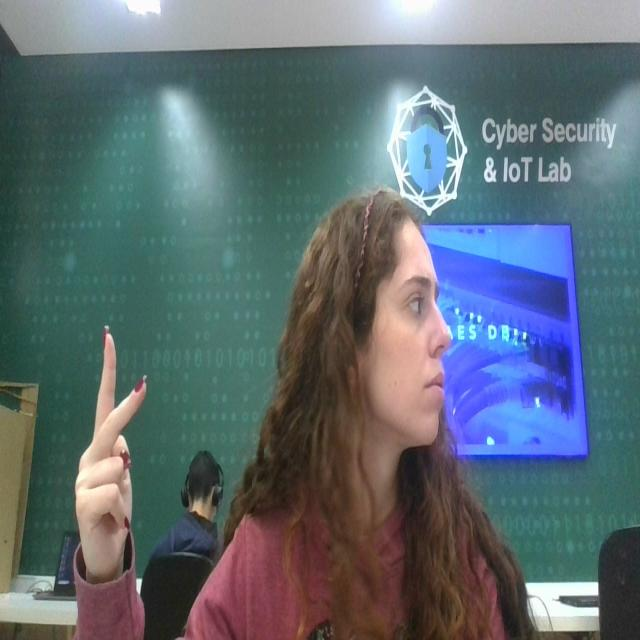K: (72, 304, 152, 594)
